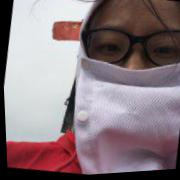WRONG: (72, 1, 180, 142)
